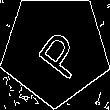P_NW: (25, 19, 85, 80)
